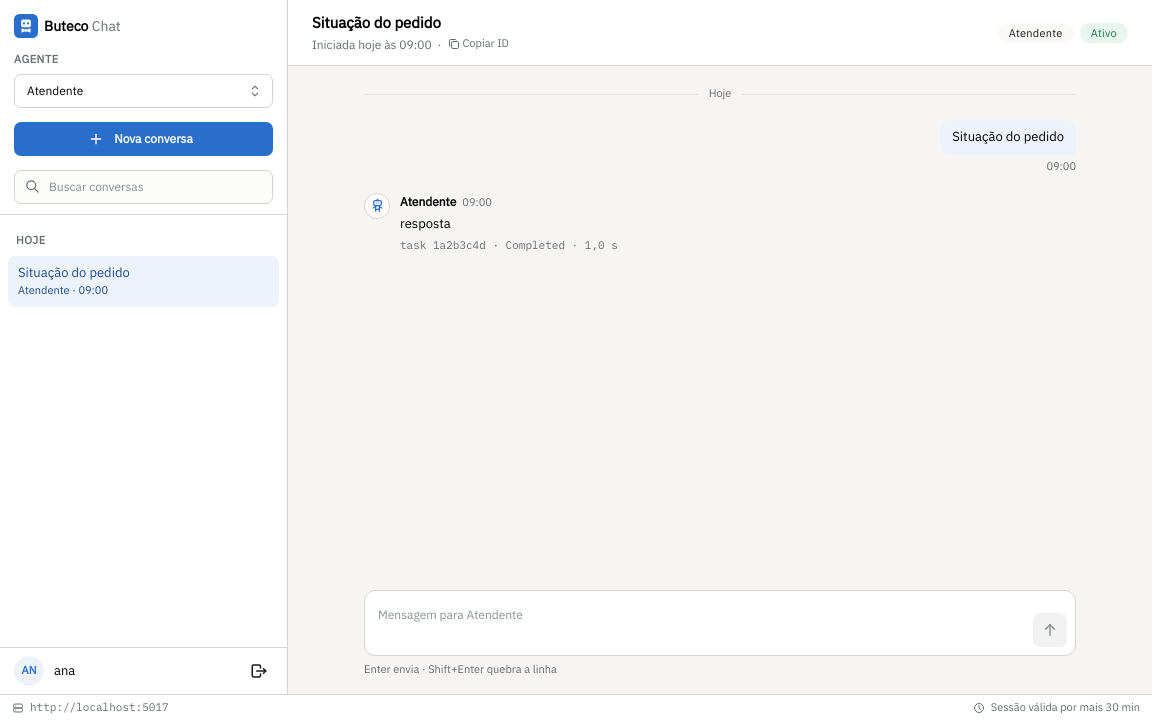
Test: lista › busca sem resultado
The image size is (1152, 720).
Type "xyz" into the field labelled "Buscar conversas". click: (144, 187)
box: [14,170,273,204]
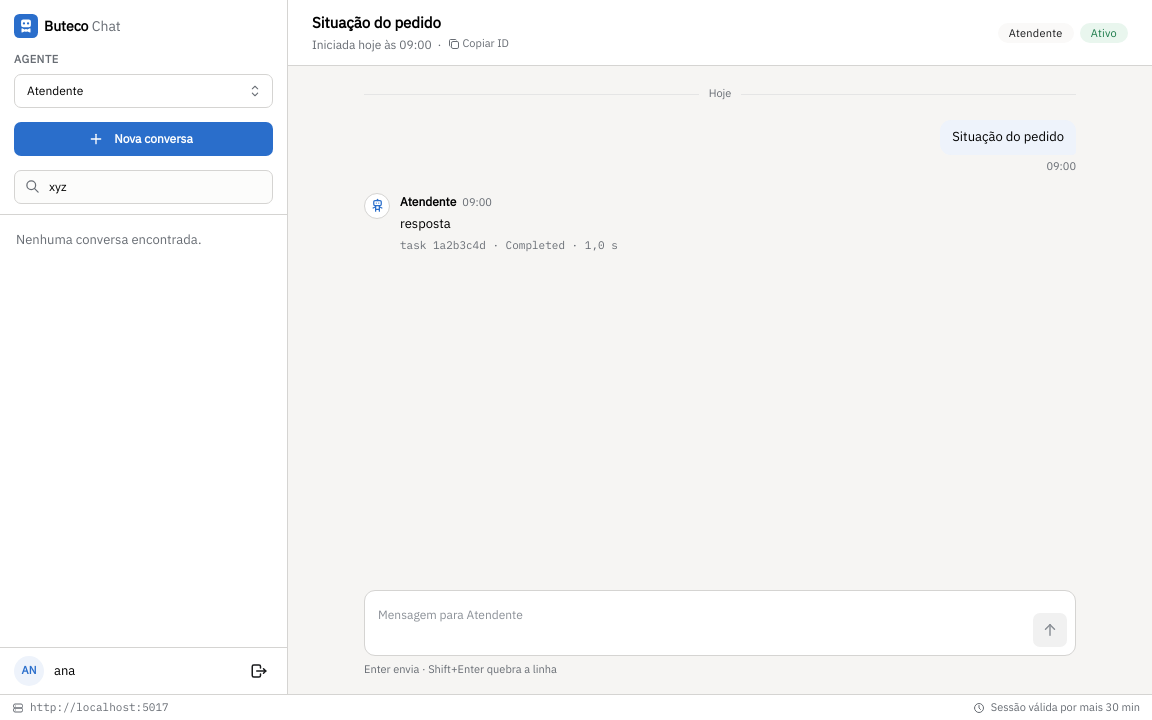
Result: the text "Nenhuma conversa encontrada." is shown at [16,231,201,248]
